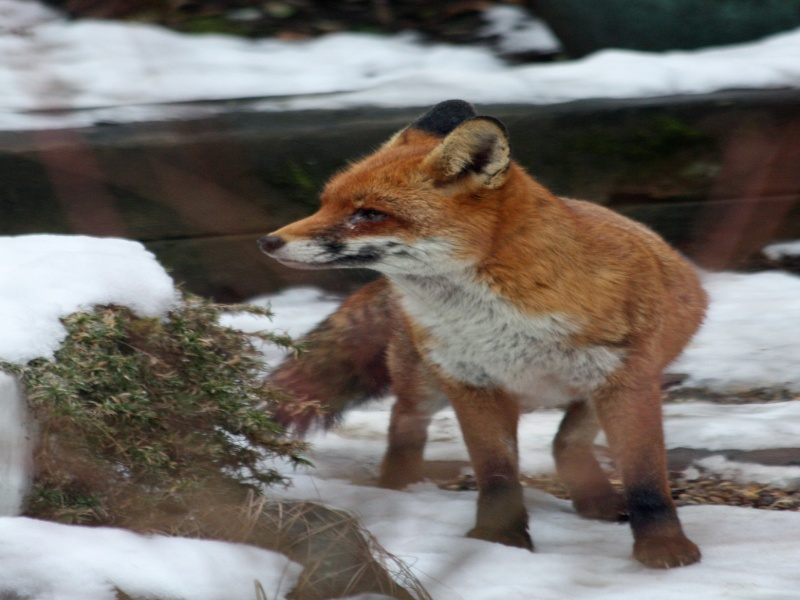fox: (243, 95, 712, 580)
